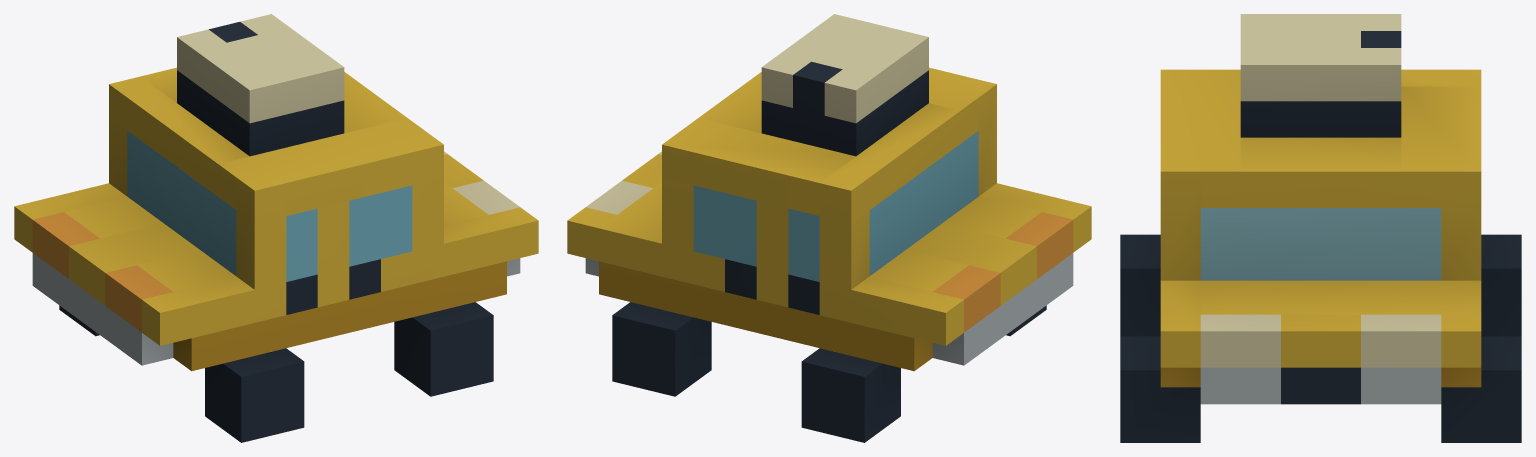
File: taxi.glb
3 renders of one model, left to right at view 1: azimuth 30°, elevation 25°; view 2: azimuth 150°, elevation 25°; view 3: azimuth 270°, elevation 25°, orthographic. The views are drawn at different scales.
Visible parts, largest first — view 1: taxi_body; view 2: taxi_body; view 3: taxi_body.
Part boxes in pixels (<box>): taxi_body: <box>14,14,538,442</box>; taxi_body: <box>567,14,1091,442</box>; taxi_body: <box>1120,14,1521,442</box>.
Size of the model in its own units: 1 by 0.75 by 0.8333.
